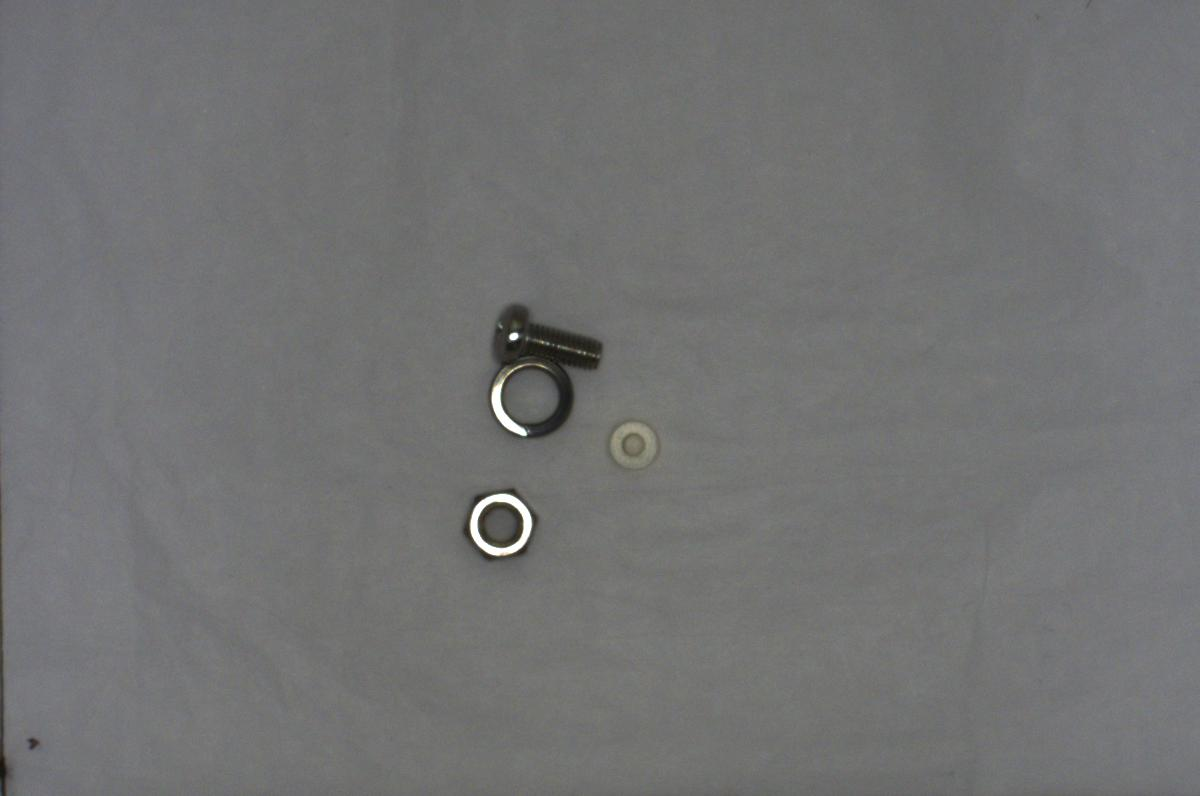Hexagon nut: (457, 480, 551, 562)
Plastic cushion pillar: (601, 414, 662, 474)
Round head screw: (491, 296, 611, 379)
Spring washer: (482, 359, 578, 440)
